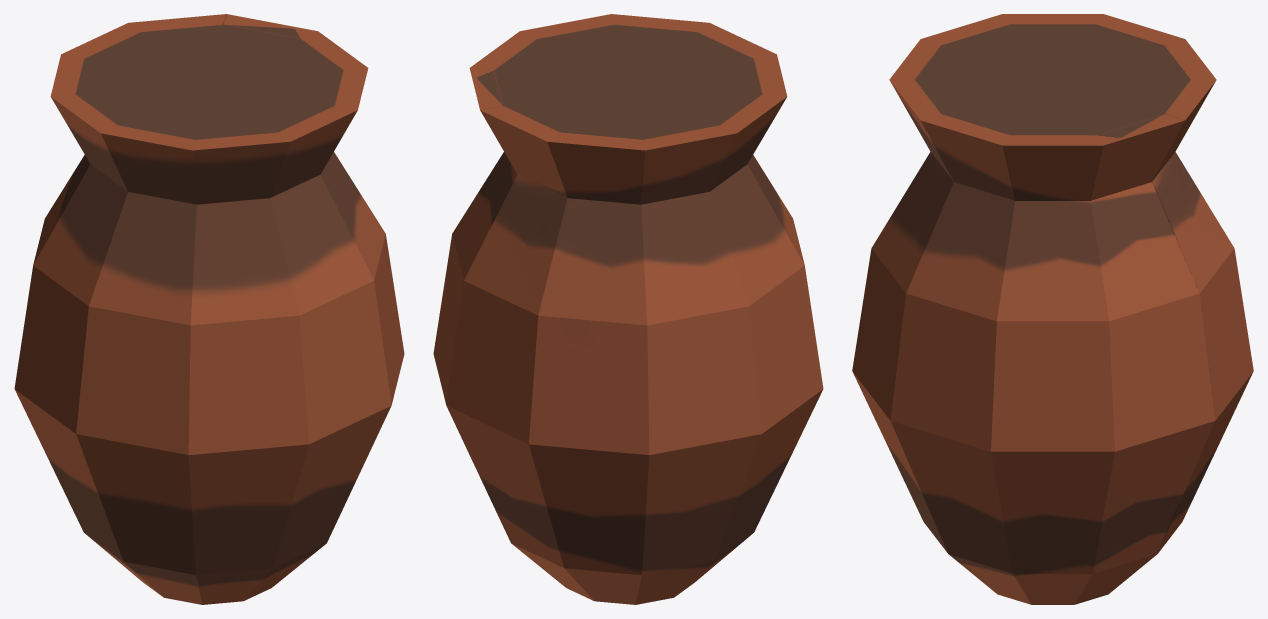
Rendered from vase3.fbx.
The picture shows the model from 3 angles, left to right: view 1: azimuth 30°, elevation 25°; view 2: azimuth 150°, elevation 25°; view 3: azimuth 270°, elevation 25°; orthographic projection.
Visible parts, largest first — view 1: Vase3; view 2: Vase3; view 3: Vase3.
Boxes of the visible parts, x1,y1,x2,y2 form: Vase3: (14,14,404,604); Vase3: (433,14,823,604); Vase3: (852,14,1253,604).
Bounding box in the file's own units: 2.16 × 3.1 × 2.27.
